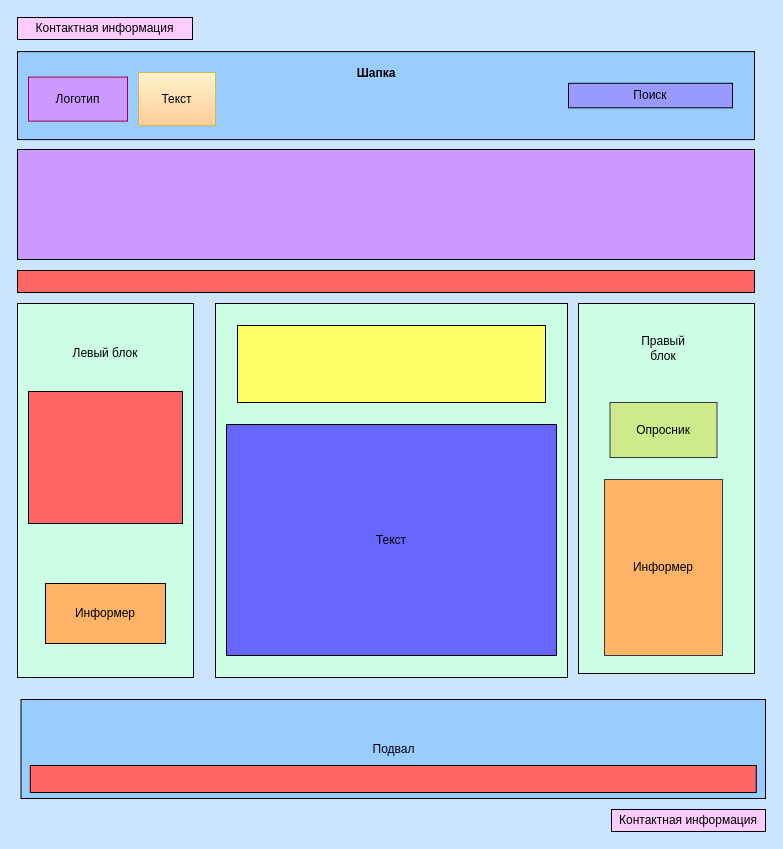
The diagram is 783 pixels wide and 849 high, and some of its shapes have lost their labels. The shapes that lost their labels are listed below. From the top down, each one's centre as x and y in pixels, then its label:
point 385,204: Изображение
point 385,281: Верхнее меню
point 391,363: Баннер
point 105,457: Меню каталог
point 392,778: Нижнее меню
